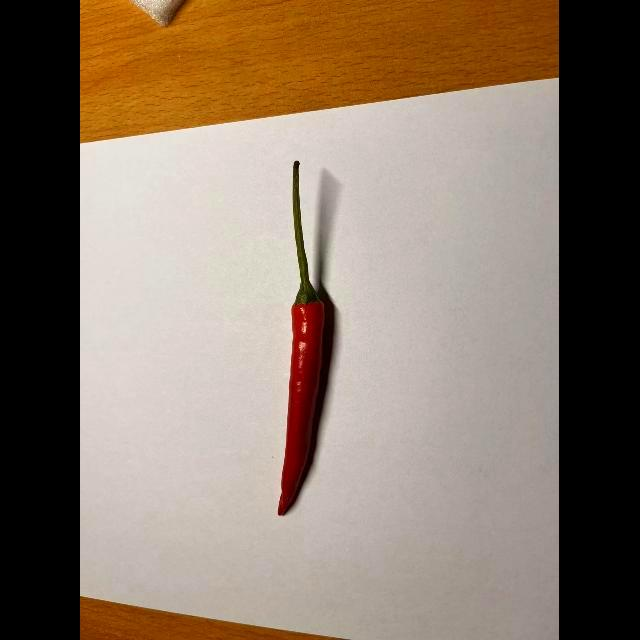chili_pepper: (262, 157, 340, 529)
